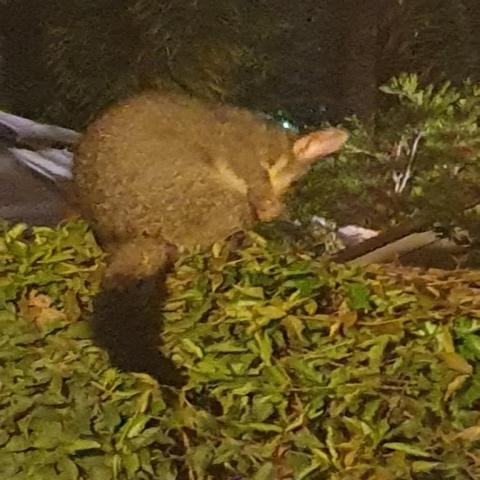small_animal: (69, 86, 349, 382)
